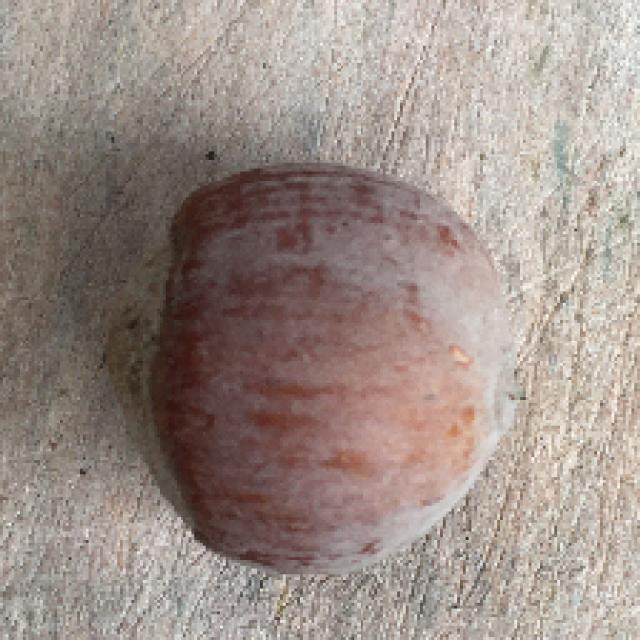QualityHazelnut: (106, 168, 519, 576)
